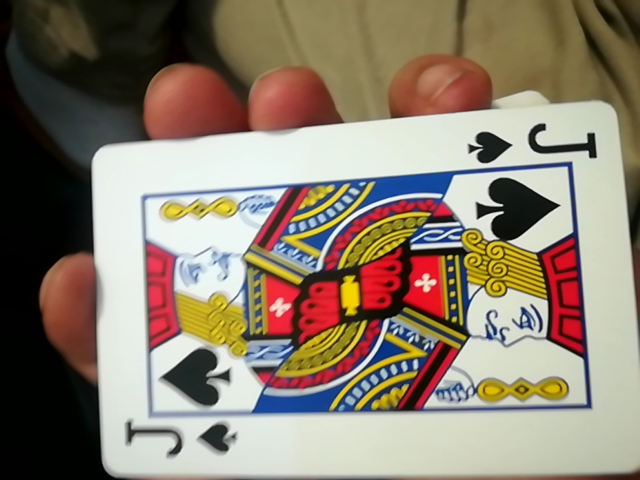ht j: (73, 106, 630, 480)
